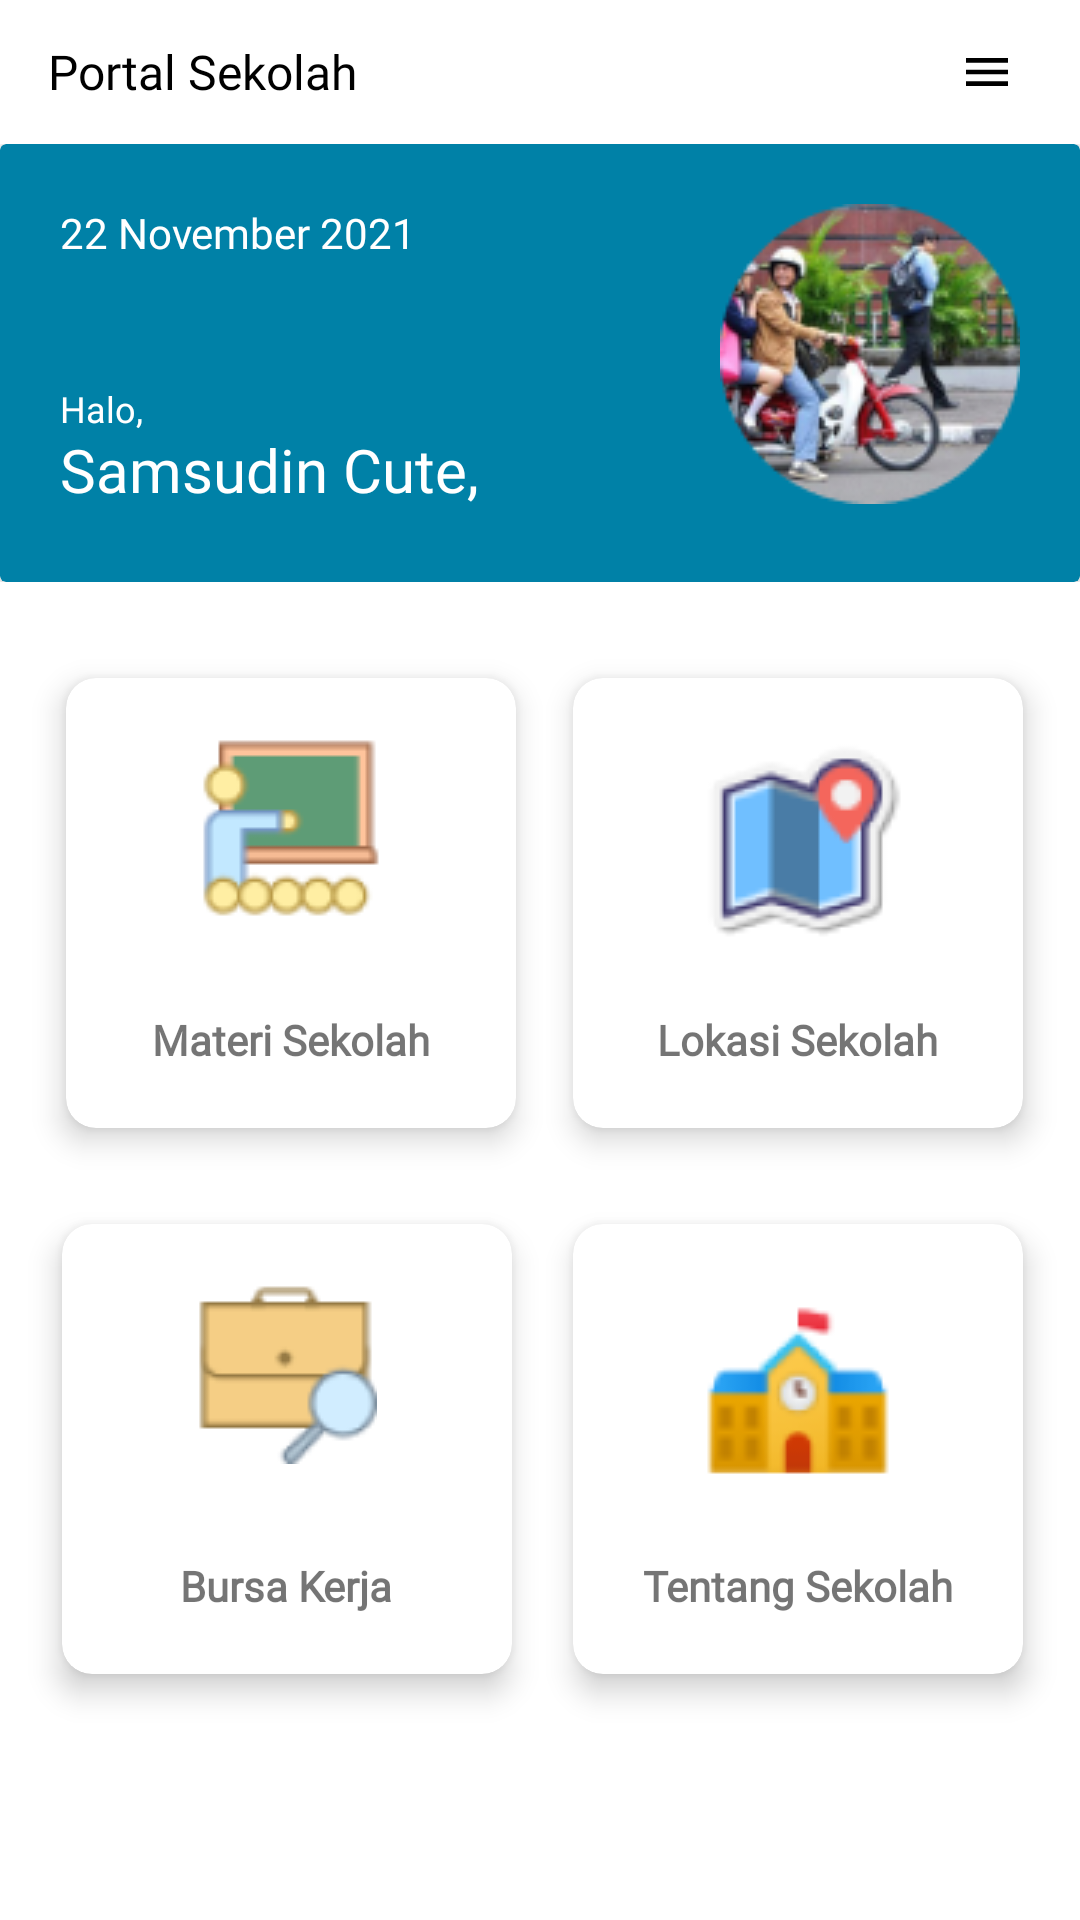

Icons on this 1080 × 1920 Android screen, each with its box as BBox(x1, y1, x2, y2):
classroom: BBox(203, 740, 379, 916)
job seeker: BBox(199, 1286, 377, 1464)
map marker: BBox(719, 758, 899, 933)
menu: BBox(966, 58, 1008, 86)
school building: BBox(707, 1307, 889, 1474)
